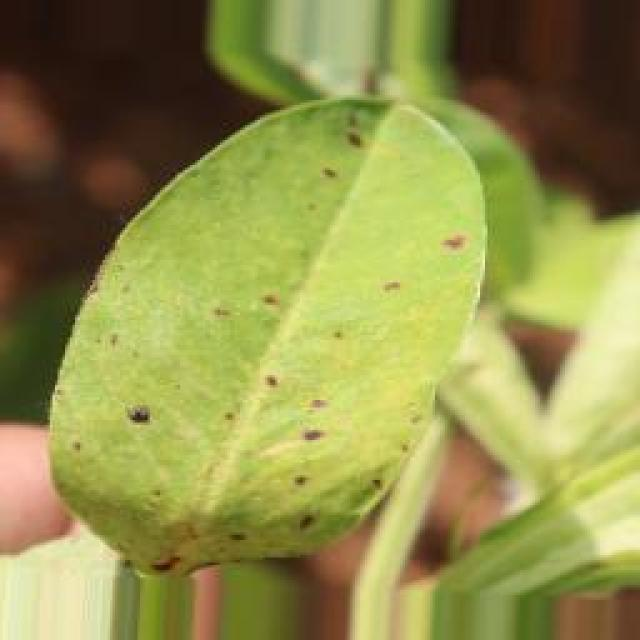Sigatoka: (232, 412, 398, 535), (209, 324, 345, 421), (85, 358, 181, 448), (69, 251, 175, 324), (124, 534, 247, 594), (296, 113, 385, 184), (206, 261, 294, 324), (344, 240, 423, 308), (411, 196, 469, 274), (85, 317, 142, 370)
